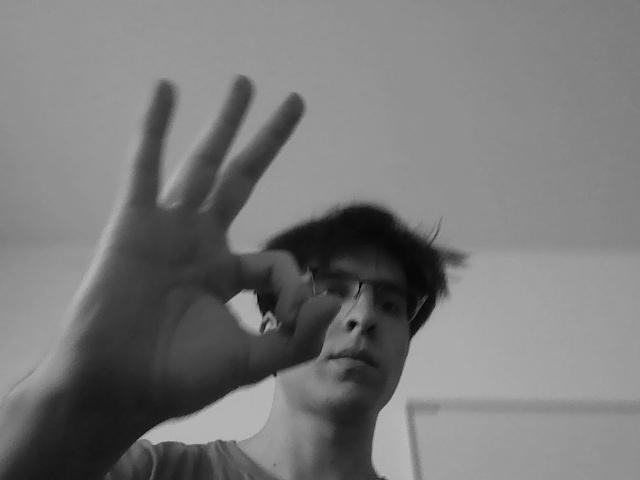OK: (96, 71, 320, 370)
